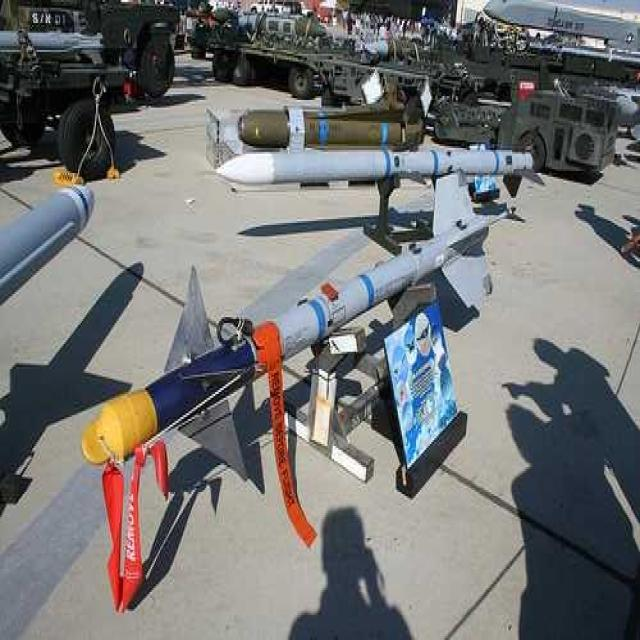missile: (84, 176, 506, 519), (0, 157, 94, 343), (237, 106, 432, 181), (211, 148, 560, 182)
